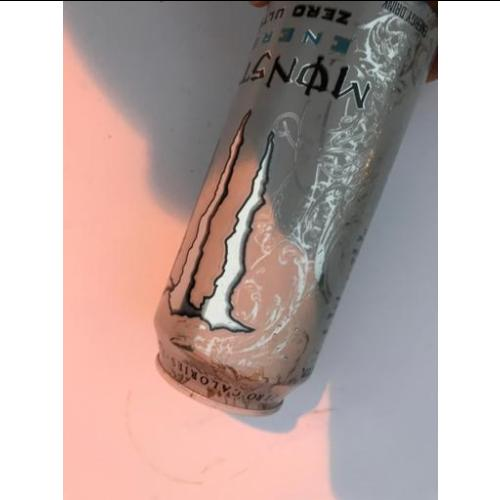metal: (157, 0, 439, 419)
